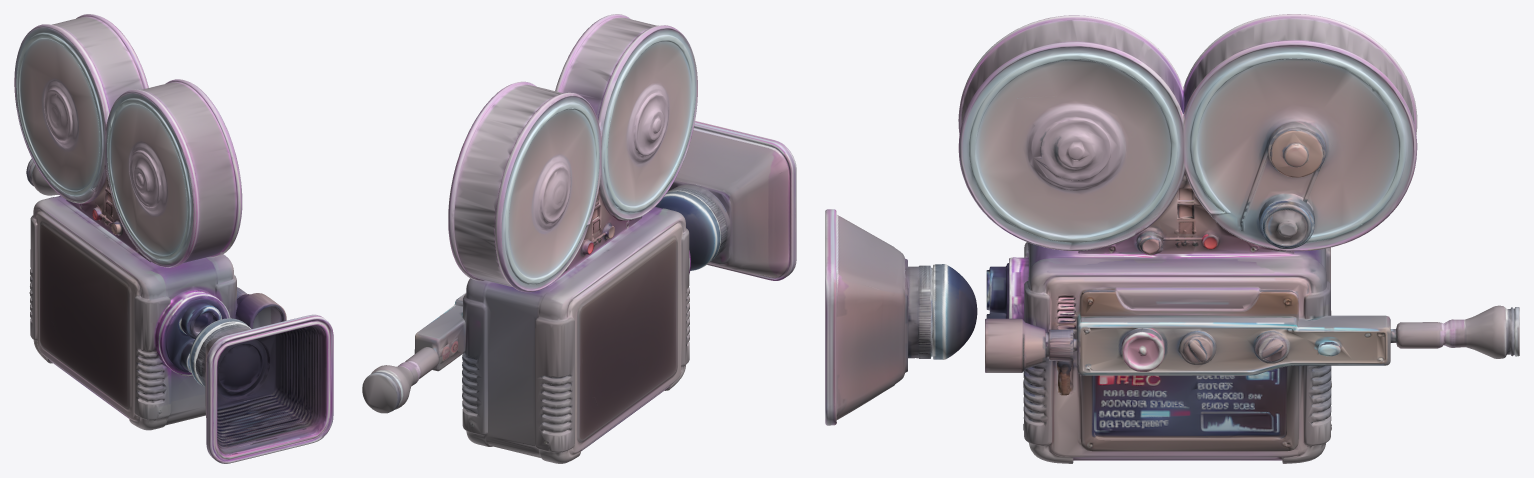
Rendered from camera-v1.glb.
3 views of the same model, side by side, from view 1: azimuth 30°, elevation 25°; view 2: azimuth 150°, elevation 25°; view 3: azimuth 270°, elevation 25° (orthographic). The views are drawn at different scales.
Parts seen in each view (by area): view 1: Mesh_0; view 2: Mesh_0; view 3: Mesh_0.
Part boxes in pixels (x1,y1,x2,y2): Mesh_0: [14, 14, 333, 463]; Mesh_0: [362, 14, 796, 463]; Mesh_0: [825, 14, 1519, 463].
Size of the model in its own units: 0.3079 by 0.6824 by 1.05.
1 material, 1 textured.
